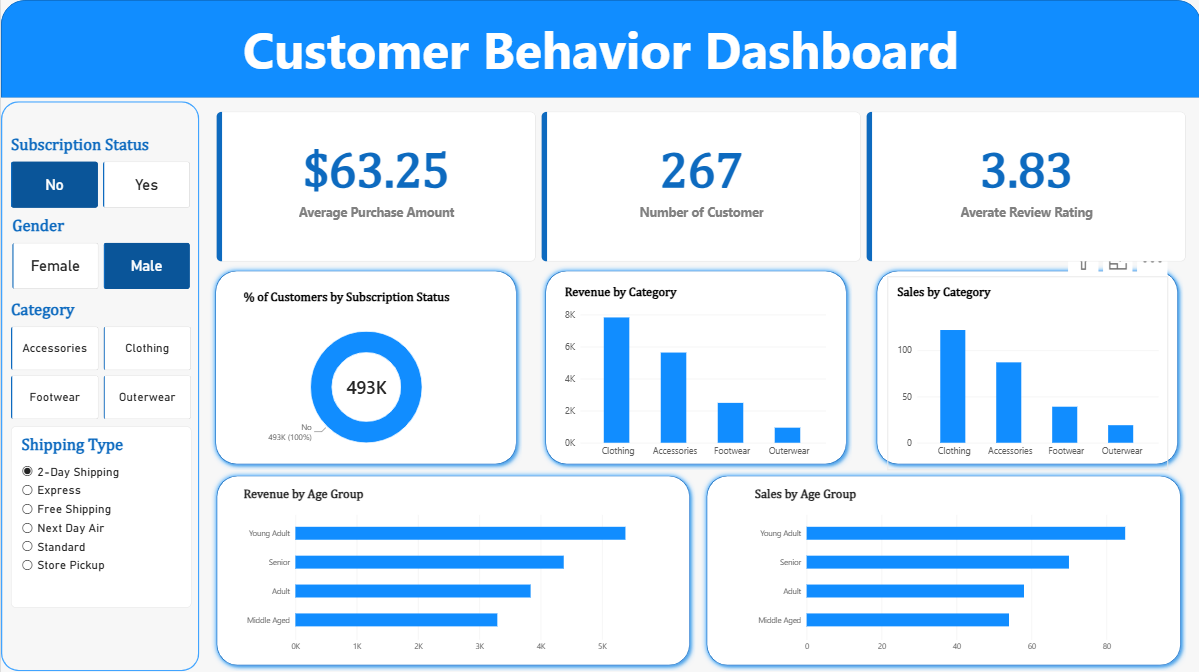

This screenshot's page, from the dashboard's own definition file:
{"tool":"powerbi","page":{"name":"Page 1","canvas":[1920,1080],"ordinal":0},"visuals":[{"type":"shape","box":[0,0,1920,156.2],"z":0},{"type":"textbox","box":[0,23.3,1920,133.3],"z":1000},{"type":"shape","box":[334.4,423.6,500,328],"z":2000},{"type":"donutChart","title":"% of Customers by  Subscription Status","fields":{"Category":["public customer.subscription_status"],"Y":["Sum(public customer.customer_id)"]},"box":[371.6,449.3,425,303.8],"z":3000},{"type":"shape","box":[862.4,423.6,500,328],"z":4000},{"type":"shape","box":[1392.4,423.6,500,328],"z":5000},{"type":"clusteredColumnChart","title":"Revenue by Category","fields":{"Category":["public customer.category"],"Y":["Sum(public customer.purchase_amount)"]},"box":[886.9,441.8,450,310],"z":6000},{"type":"clusteredColumnChart","title":"Sales by Category","fields":{"Category":["public customer.category"],"Y":["Count(public customer.customer_id)"]},"box":[1417.7,441.8,450,310],"z":7000},{"type":"cardVisual","fields":{"Data":["public customer.Average Purchase Amount","public customer.Number of Customer","public customer.Averate Review Rating"]},"box":[343.1,178.5,1552.3,241.5],"z":8000},{"type":"shape","box":[0,161.8,317.3,911.8],"z":9000},{"type":"advancedSlicerVisual","fields":{"Values":["public customer.subscription_status"]},"box":[16.7,215,286.7,116.7],"z":10000},{"type":"advancedSlicerVisual","title":"Gender","fields":{"Values":["public customer.gender"]},"box":[18.3,346.7,285,116.7],"z":11000},{"type":"advancedSlicerVisual","title":"Category","fields":{"Values":["public customer.category"]},"box":[15.7,480,310,202.9],"z":12000},{"type":"listSlicer","fields":{"Values":["public customer.shipping_type"]},"box":[15.7,682.9,288.6,290],"z":13000},{"type":"shape","box":[336.7,751.7,775,321.7],"z":14000},{"type":"clusteredBarChart","title":"Revenue by Age Group","fields":{"Category":["public customer.age_group"],"Y":["Sum(public customer.purchase_amount)"]},"box":[371.7,765,661.7,296.7],"z":15000},{"type":"shape","box":[1120,751.7,776.7,321.7],"z":16000},{"type":"clusteredBarChart","title":"Sales by Age Group","fields":{"Category":["public customer.age_group"],"Y":["Count(public customer.customer_id)"]},"box":[1190,765,661.7,296.7],"z":17000}]}

Visuals, with their boxes in screenshot pixels (x1, y1, x2, y2), scaled from the page's 1920x1080 canvas onto the 1199x672 screenshot:
shape: [0,0,1198,97]
textbox: [0,14,1198,97]
shape: [209,264,521,468]
"% of Customers by  Subscription Status" donutChart: [232,280,497,469]
shape: [539,264,851,468]
shape: [870,264,1182,468]
"Revenue by Category" clusteredColumnChart: [554,275,835,468]
"Sales by Category" clusteredColumnChart: [885,275,1166,468]
cardVisual - public customer.Average Purchase Amount x public customer.Number of Customer: [214,111,1184,261]
shape: [0,101,198,668]
advancedSlicerVisual - public customer.subscription_status: [10,134,189,206]
"Gender" advancedSlicerVisual: [11,216,189,288]
"Category" advancedSlicerVisual: [10,299,203,425]
listSlicer - public customer.shipping_type: [10,425,190,605]
shape: [210,468,694,668]
"Revenue by Age Group" clusteredBarChart: [232,476,645,661]
shape: [699,468,1184,668]
"Sales by Age Group" clusteredBarChart: [743,476,1156,661]
